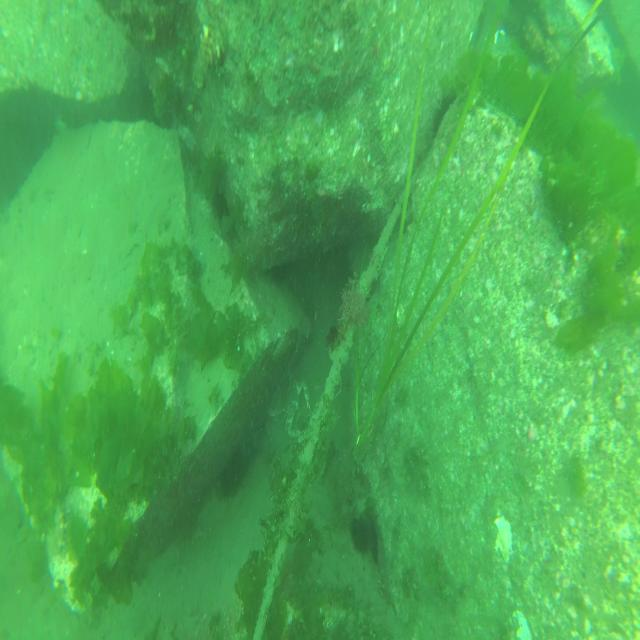echinus: (219, 449, 246, 497), (432, 96, 455, 138), (351, 518, 369, 556), (370, 526, 379, 563)
